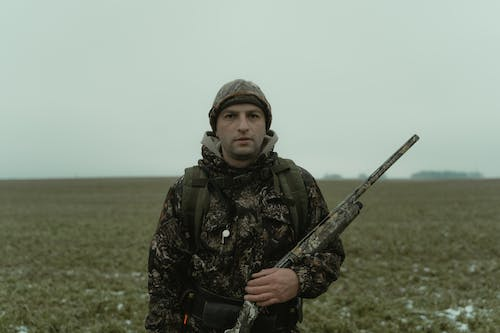gun: (222, 132, 421, 333)
